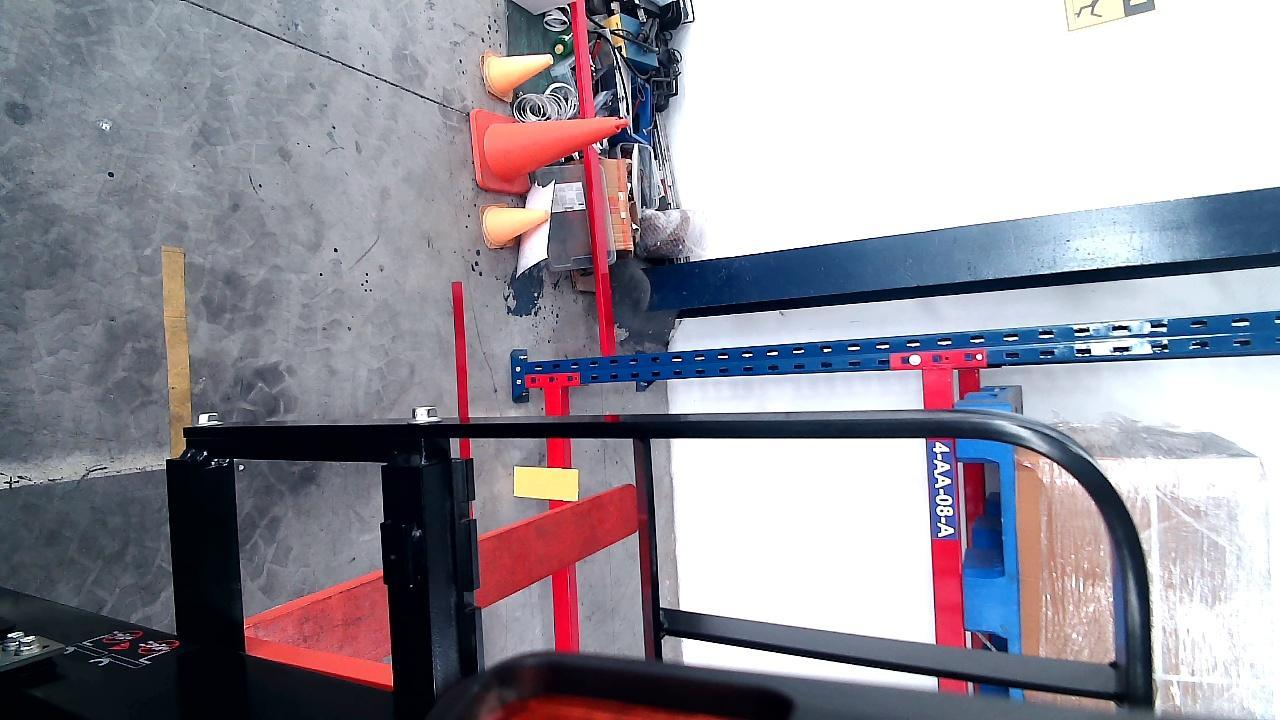red_line: (453, 280, 473, 461)
yellow_line: (164, 242, 193, 443)
